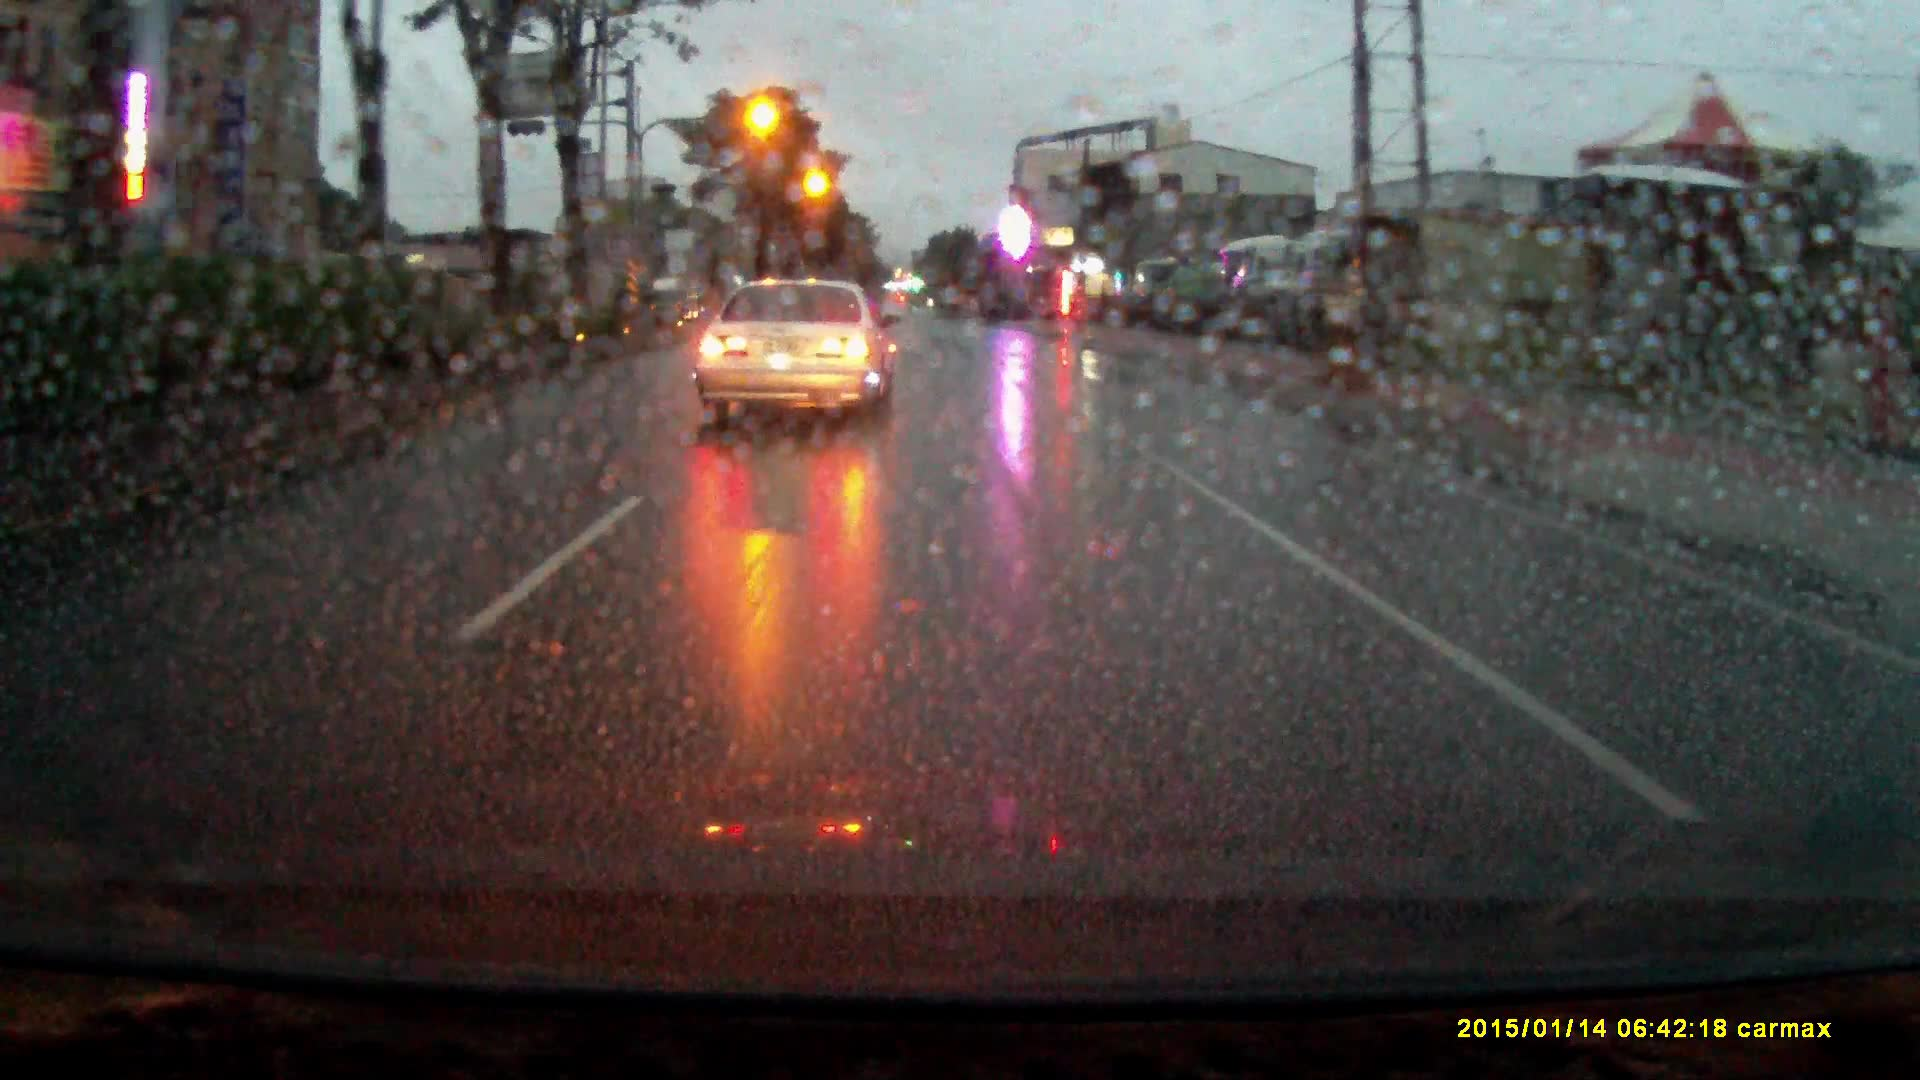vehicle: (694, 274, 902, 444), (1220, 240, 1312, 344), (1311, 232, 1396, 342), (1131, 261, 1187, 331), (1160, 266, 1221, 320), (653, 281, 702, 330)
